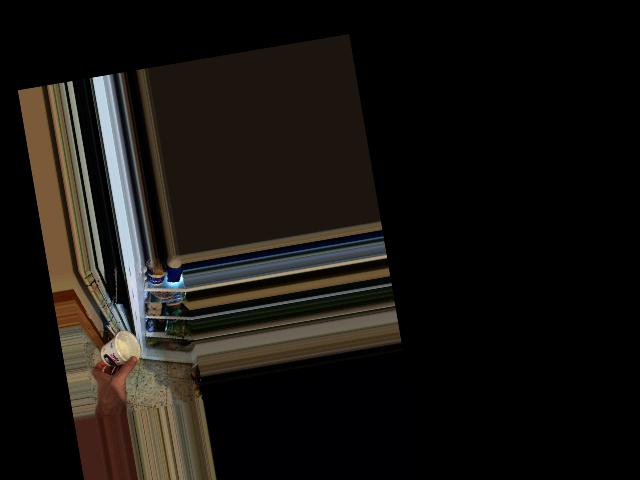cotage: (99, 332, 135, 367)
